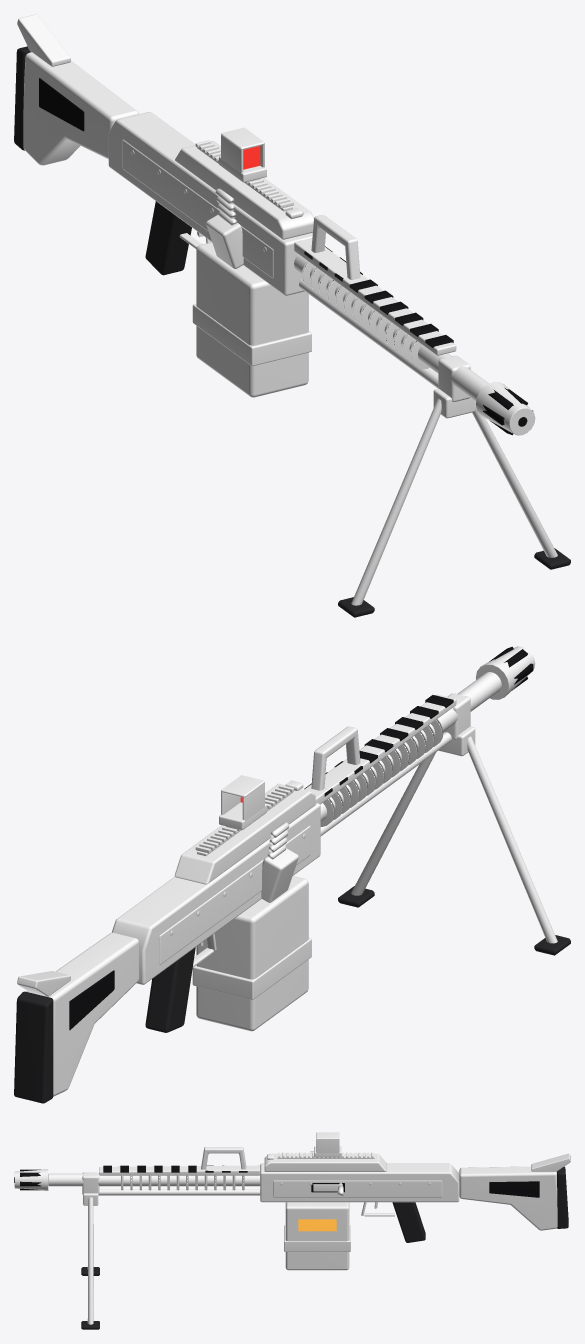
File: lmg.glb
3 renders of one model, top to bottom at view 1: azimuth 30°, elevation 25°; view 2: azimuth 150°, elevation 25°; view 3: azimuth 270°, elevation 25°, orthographic. The views are drawn at different scales.
Visible parts, largest first — view 1: ammo_box, stock, receiver, feed_cover, receiver_plate, barrel_jacket, ammo_box_band, grip, bipod_leg, bipod_leg.001, barrel, flash_hider (+8 smaller); view 2: ammo_box, receiver, stock, butt_pad, feed_cover, receiver_plate, grip, ammo_box_band, barrel_jacket, bipod_leg, barrel, bipod_leg.001 (+10 smaller); view 3: receiver, stock, ammo_box, receiver_plate, barrel, feed_cover, barrel_jacket, gas_tube, grip, ammo_box_band, bipod_leg.001, stock_cut (+8 smaller).
Part boxes in pixels (box(x1,y1,x2,y2)): ammo_box: box(196, 242, 308, 397); stock: box(23, 52, 138, 165); receiver: box(108, 112, 312, 295); feed_cover: box(175, 141, 313, 239); receiver_plate: box(122, 139, 273, 278); barrel_jacket: box(294, 238, 456, 355); ammo_box_band: box(192, 304, 311, 365); grip: box(145, 201, 191, 275); bipod_leg: box(351, 398, 441, 605); bipod_leg.001: box(472, 401, 557, 557); barrel: box(294, 254, 488, 401); flash_hider: box(475, 382, 535, 435); ammo_box: box(196, 876, 308, 1031); receiver: box(112, 803, 320, 984); stock: box(27, 932, 139, 1096); butt_pad: box(14, 991, 53, 1103); feed_cover: box(174, 783, 315, 884); receiver_plate: box(159, 826, 310, 964); grip: box(145, 947, 195, 1032); ammo_box_band: box(192, 937, 311, 999); barrel_jacket: box(304, 694, 456, 804); bipod_leg: box(467, 736, 557, 943); barrel: box(320, 672, 501, 821); bipod_leg.001: box(351, 752, 436, 895); receiver: box(260, 1163, 459, 1202); stock: box(459, 1166, 557, 1230); ammo_box: box(285, 1202, 349, 1270); receiver_plate: box(273, 1180, 442, 1197); barrel: box(48, 1173, 260, 1186); feed_cover: box(264, 1153, 386, 1171); barrel_jacket: box(99, 1165, 260, 1175); gas_tube: box(98, 1189, 260, 1195); grip: box(392, 1202, 425, 1242); ammo_box_band: box(284, 1225, 350, 1251); bipod_leg.001: box(87, 1197, 93, 1324); stock_cut: box(489, 1181, 539, 1197).
Bounding box in the file's own units: 0.334 × 0.4295 × 1.31.
